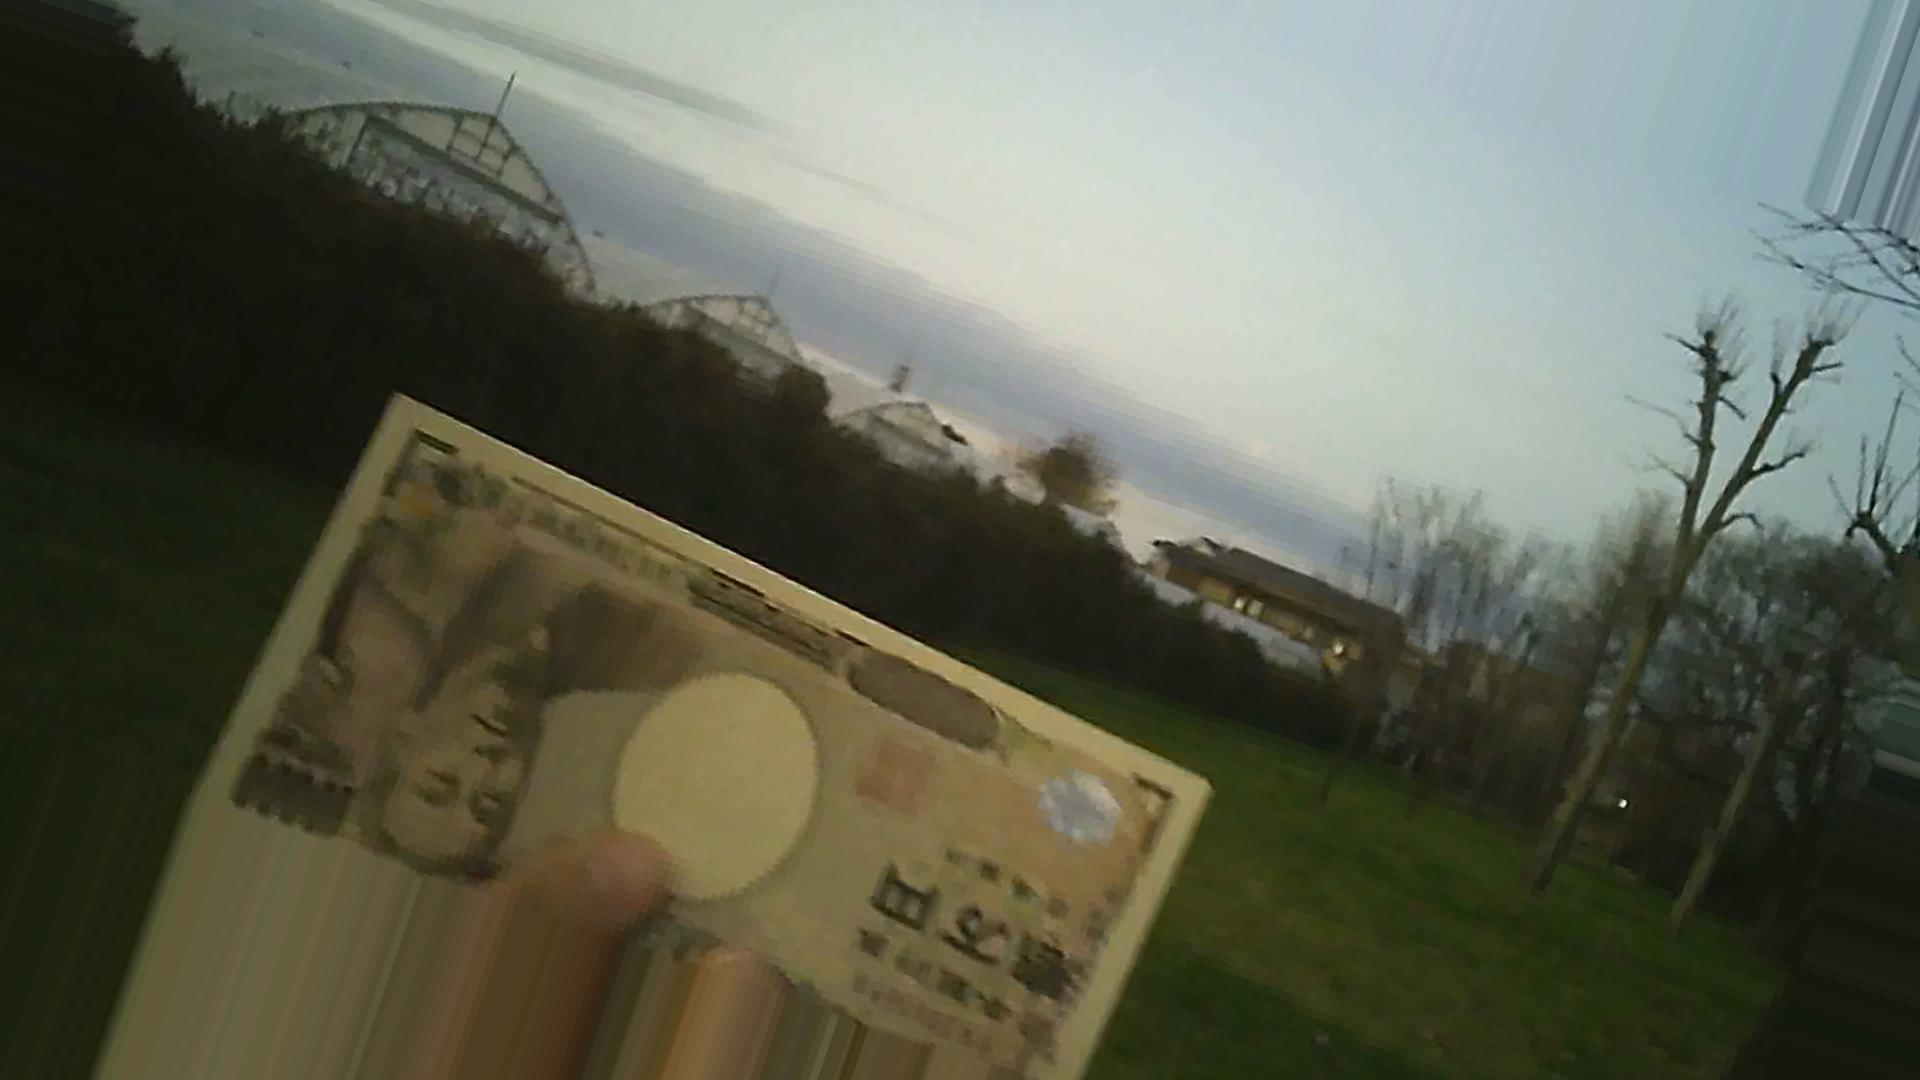10,000 Yen: (216, 410, 1192, 1069)
